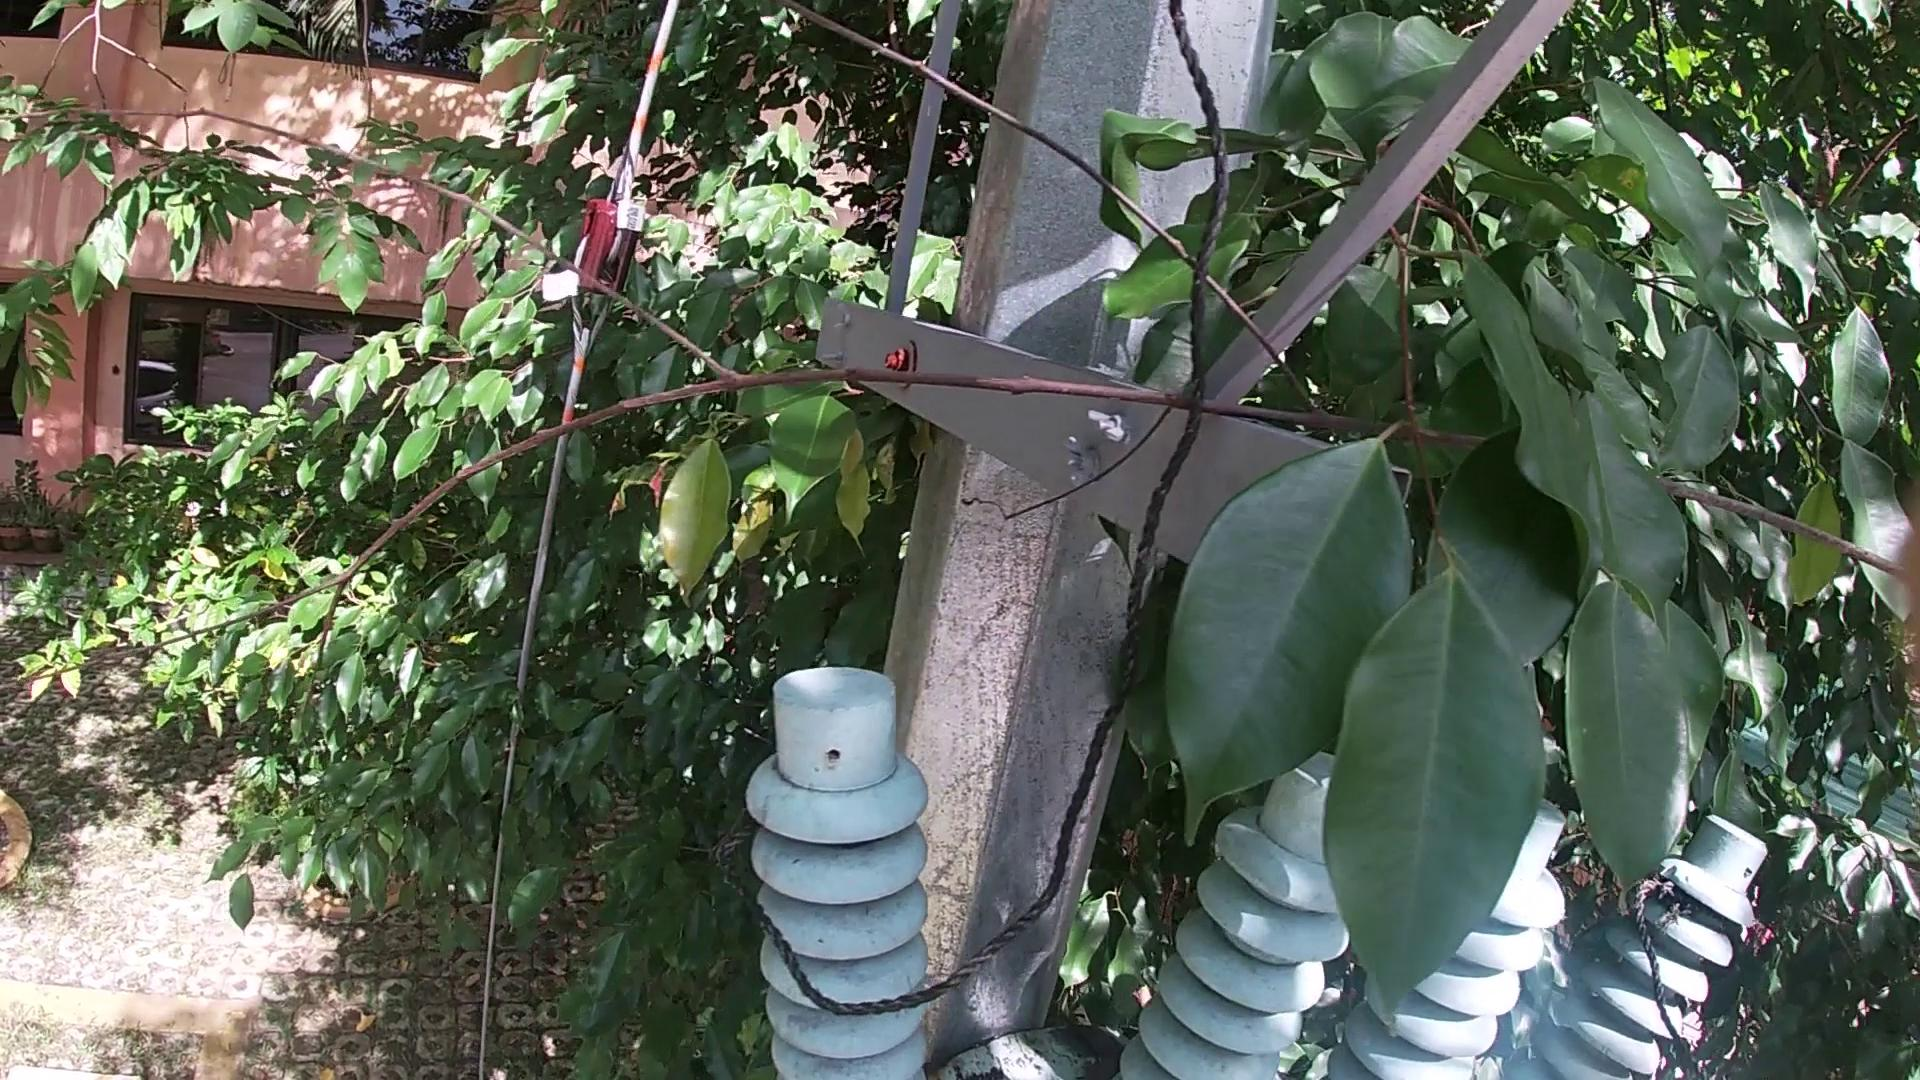tree branch: (4, 4, 1920, 803)
